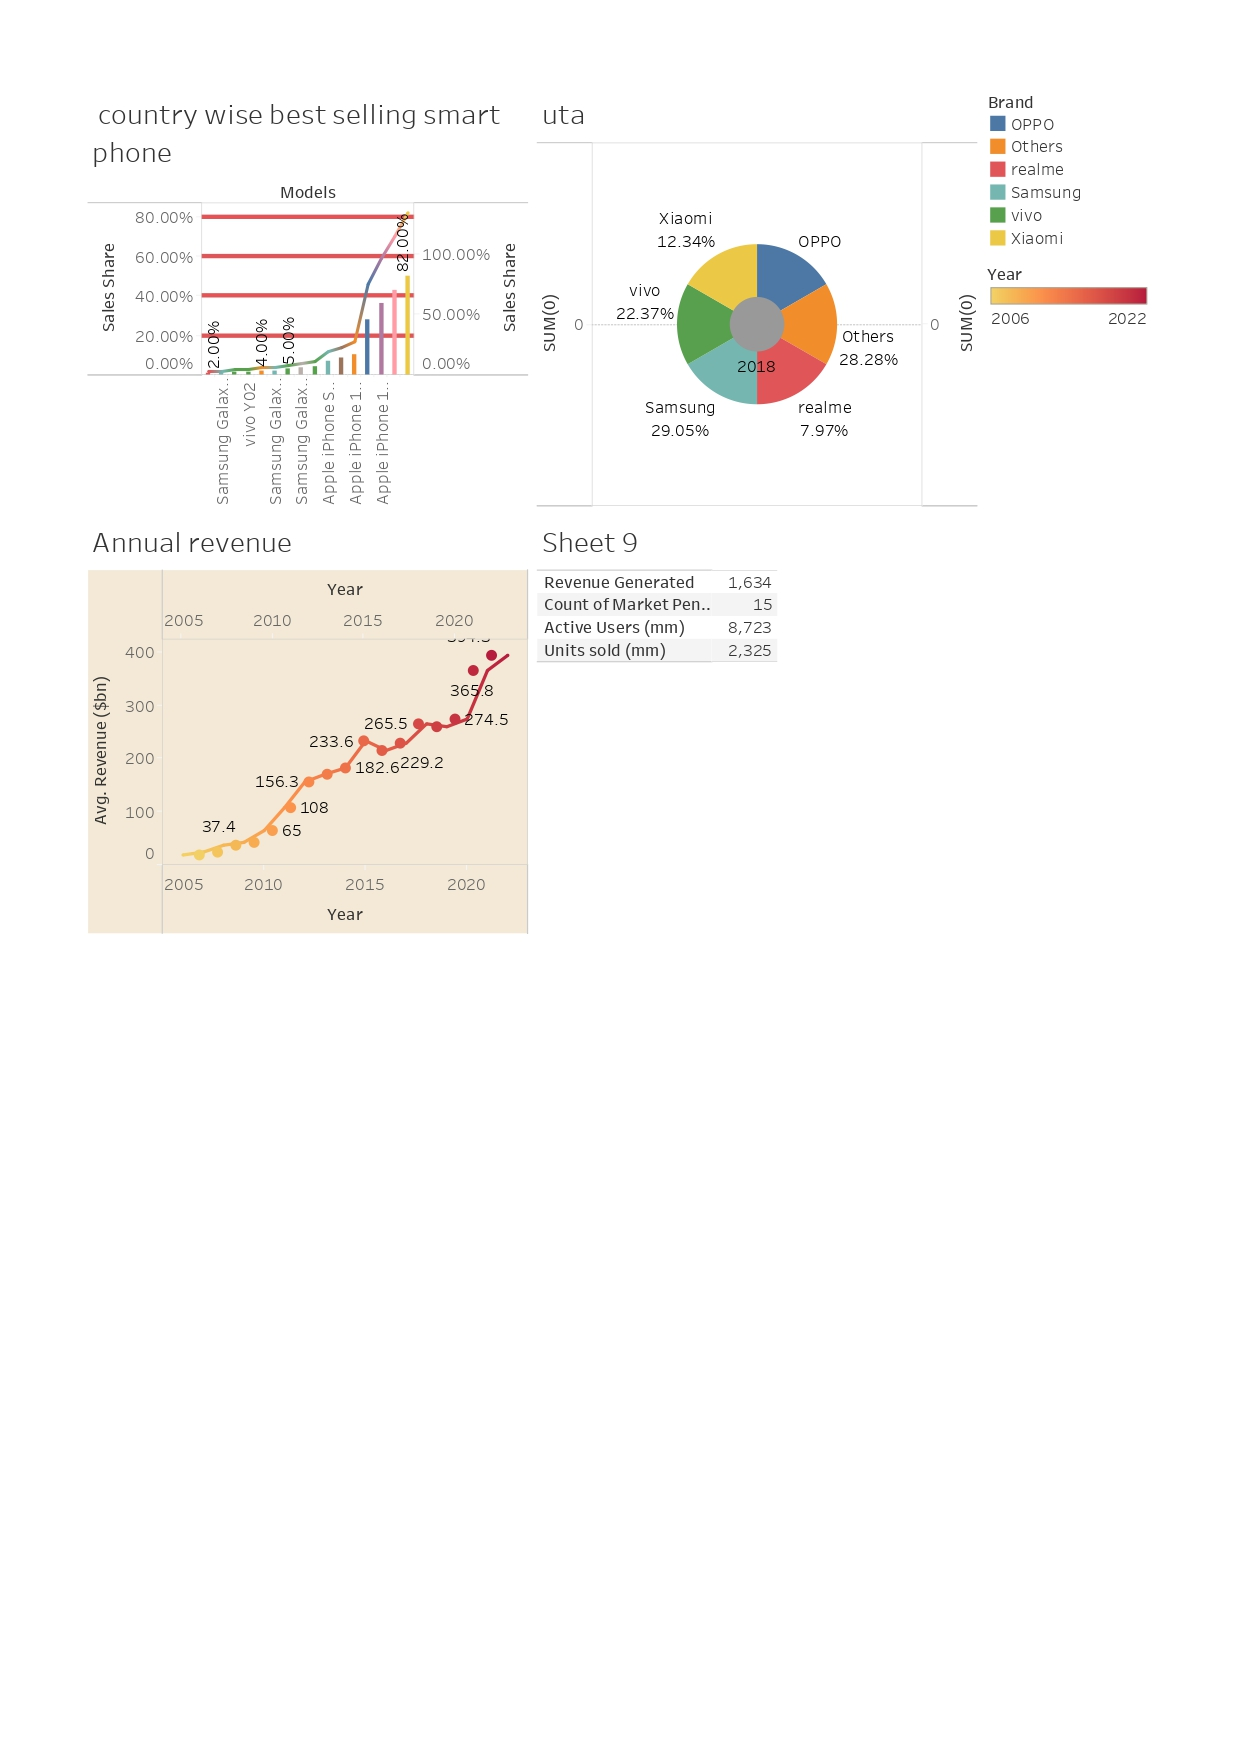

What the dashboard file says about the page in this screenshot:
{"tool":"tableau","page":{"name":"Dashboard 2","canvas":[1000,800],"ordinal":1},"visuals":[{"type":"worksheet","title":" country wise best selling smart phone","mark":"Automatic","rows":["Sales Share","Sales Share"],"cols":["Models"],"box":[8,8,412,392]},{"type":"worksheet","title":"uta","mark":"Pie","rows":["Calculation_177610720631169029","Calculation_177610720631308295"],"box":[420,8,412,392]},{"type":"legend","title":"uta","param":"[federated.0qsiliu1ikz90t177szxu13kkasy].[none:Brand:nk]","box":[832,8,160,156]},{"type":"legend","title":"Annual revenue ","param":"[federated.1689os80b5v0w91425bw015h5eby].[none:Year:qk]","box":[832,164,160,73]},{"type":"worksheet","title":"Annual revenue ","mark":"Line","rows":["Revenue ($bn)"],"cols":["Year","Year"],"box":[8,400,412,392]},{"type":"worksheet","title":"Sheet 9","mark":"Automatic","box":[420,400,412,392]}]}

Visuals, with their boxes on the page's 1000x800 design canvas (x1, y1, x2, y2). These are canvas units, not pixel positions in the 1240x1755 screenshot, which may show the page scaled, cropped or inside an application window:
" country wise best selling smart phone" worksheet: <box>8,8,420,400</box>
"uta" worksheet (Pie marks): <box>420,8,832,400</box>
"uta" legend: <box>832,8,992,164</box>
"Annual revenue " legend: <box>832,164,992,237</box>
"Annual revenue " worksheet (Line marks): <box>8,400,420,792</box>
"Sheet 9" worksheet: <box>420,400,832,792</box>
